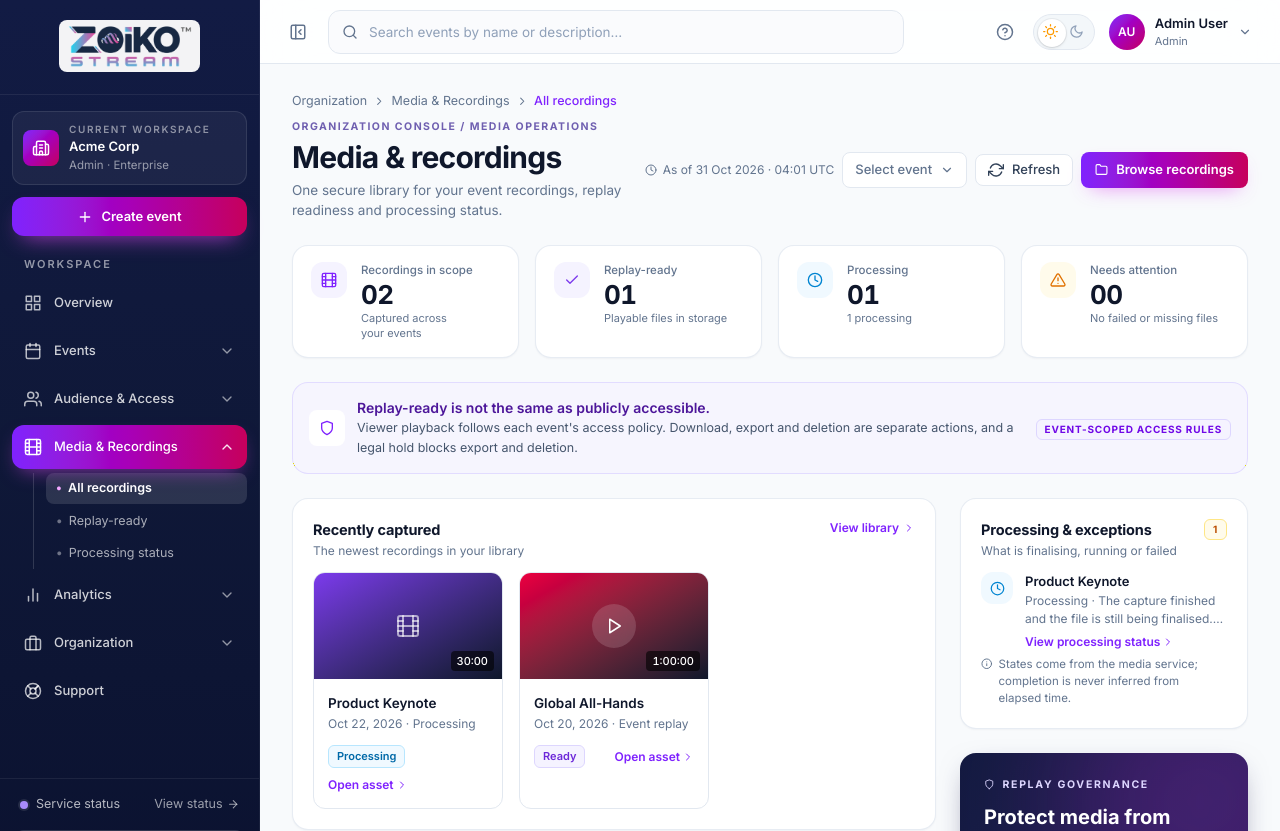
it: Media & Recordings Parent and Child Navigation › clicking parent Media & Recordings expands submenu if collapsed
The width and height of the screenshot is (1280, 831).
Expected: the heading "Media & recordings" is shown, [292,138,562,174]
Click the button named "Collapse Media & Recordings" at (227, 447), box [213,431,241,463]
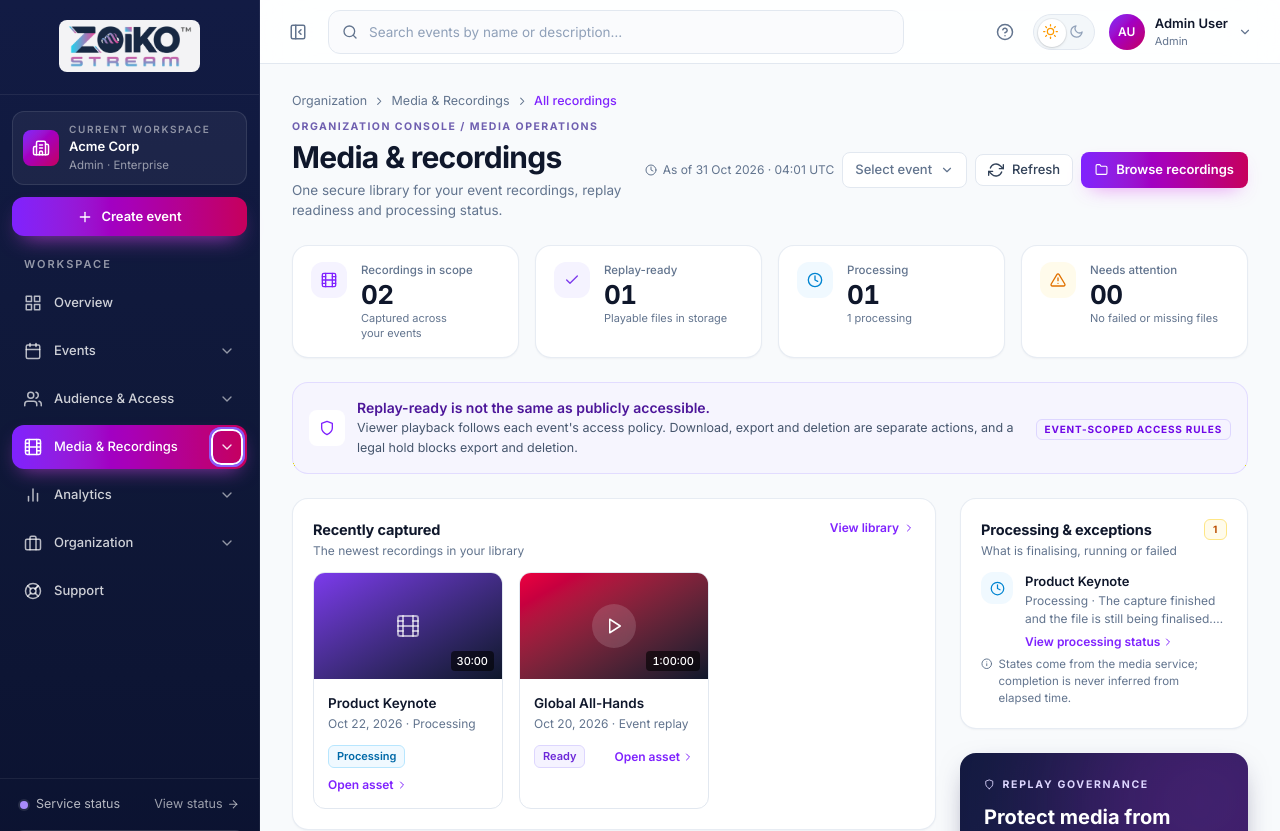
Click parent row link
Click the link "Media & Recordings" below "Audience & Access" at (130, 447), box [12,425,247,469]
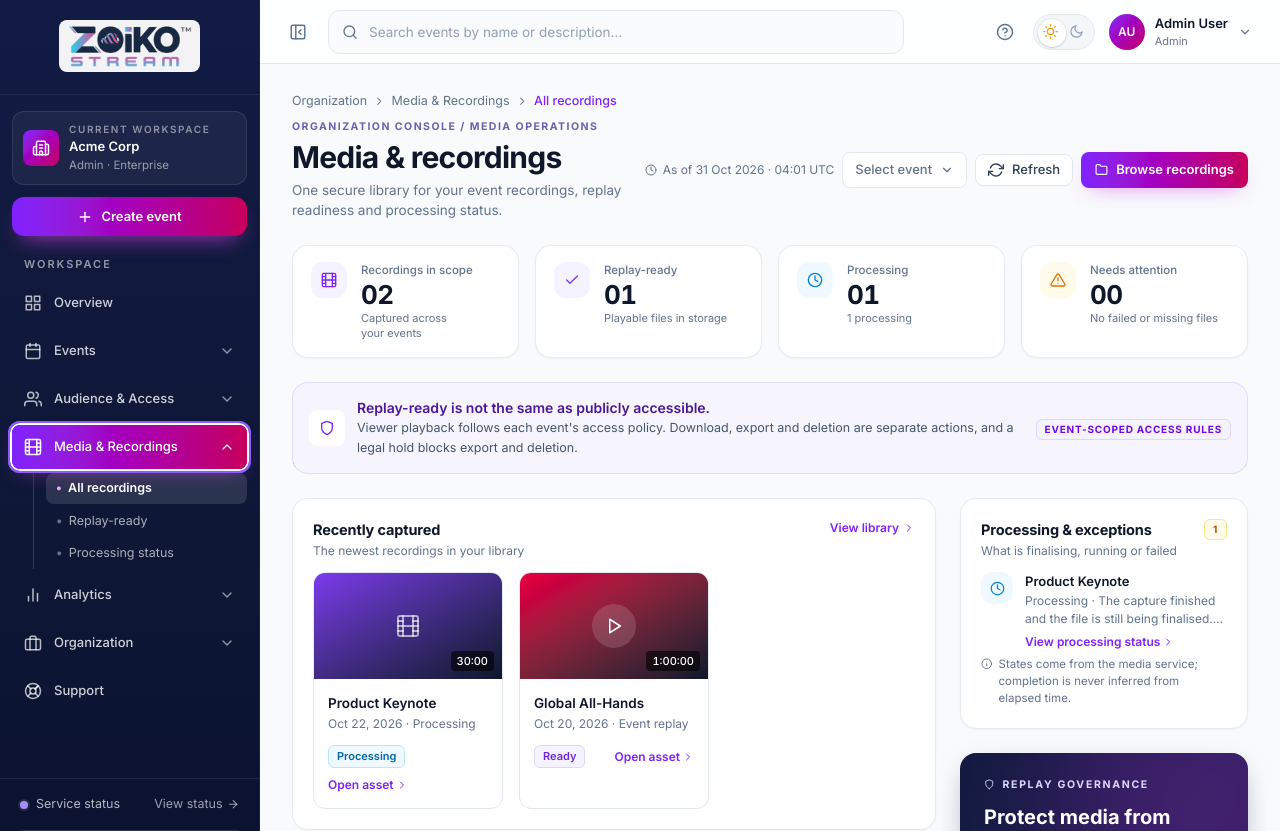
Expected: the link "•All recordings" is shown, [46,473,247,504]
